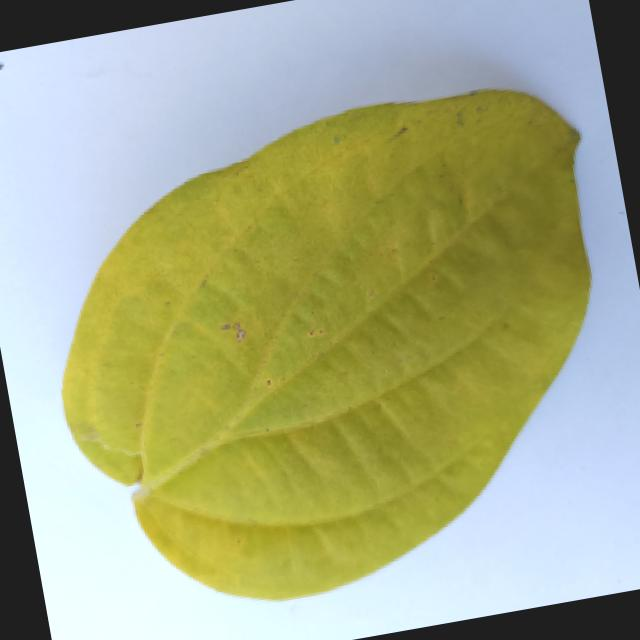slow-decline: (10, 87, 640, 640)
